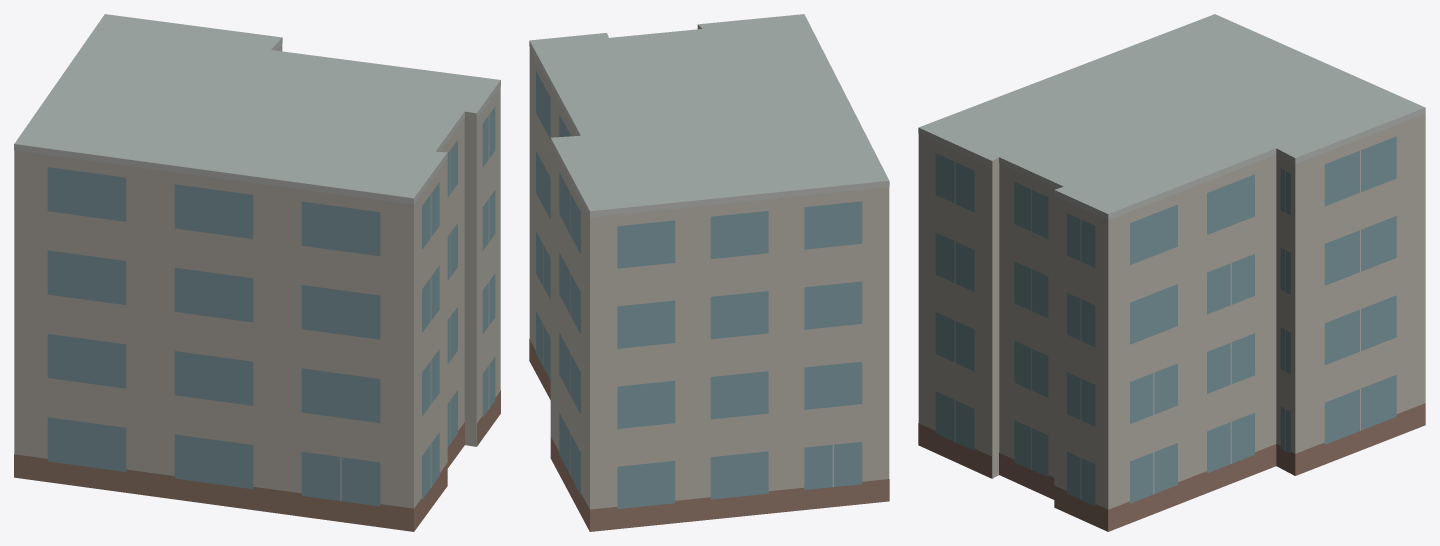
File: survey-upis-33006333.glb
3 views of the same model, side by side, from view 1: azimuth 30°, elevation 25°; view 2: azimuth 150°, elevation 25°; view 3: azimuth 270°, elevation 25° (orthographic). The views are drawn at different scales.
Visible parts, largest first — view 1: survey-upis-33006333.tmp; view 2: survey-upis-33006333.tmp; view 3: survey-upis-33006333.tmp.
Part boxes in pixels (x1,y1,x2,y2): survey-upis-33006333.tmp: [14, 14, 500, 531]; survey-upis-33006333.tmp: [529, 14, 889, 531]; survey-upis-33006333.tmp: [918, 14, 1425, 531].
Bounding box in the file's own units: 17.43 × 12.9 × 18.66.
